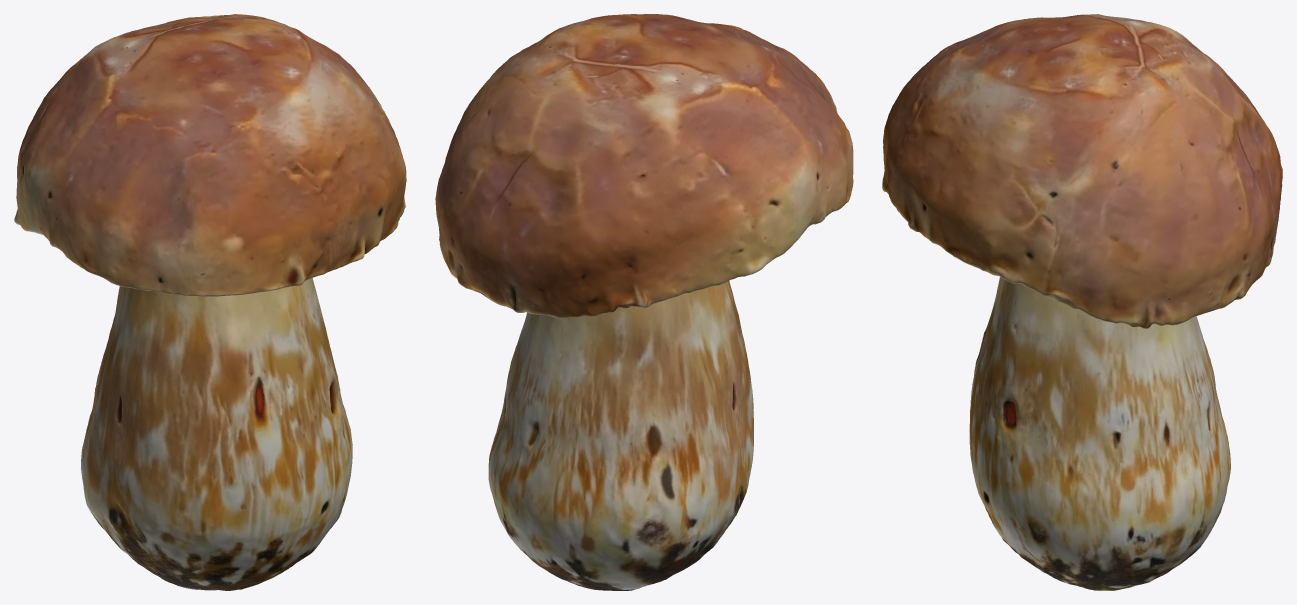
File: white_mushroom_2.glb
3 views of the same model, side by side, from view 1: azimuth 30°, elevation 25°; view 2: azimuth 150°, elevation 25°; view 3: azimuth 270°, elevation 25° (orthographic). The views are drawn at different scales.
Visible parts, largest first — view 1: Object_4; view 2: Object_4; view 3: Object_4.
Part boxes in pixels (<box>): Object_4: <box>14,14,406,590</box>; Object_4: <box>435,14,853,590</box>; Object_4: <box>882,14,1282,590</box>.
Bounding box in the file's own units: 1.28 × 1.92 × 1.32.
1 material, 1 textured.
